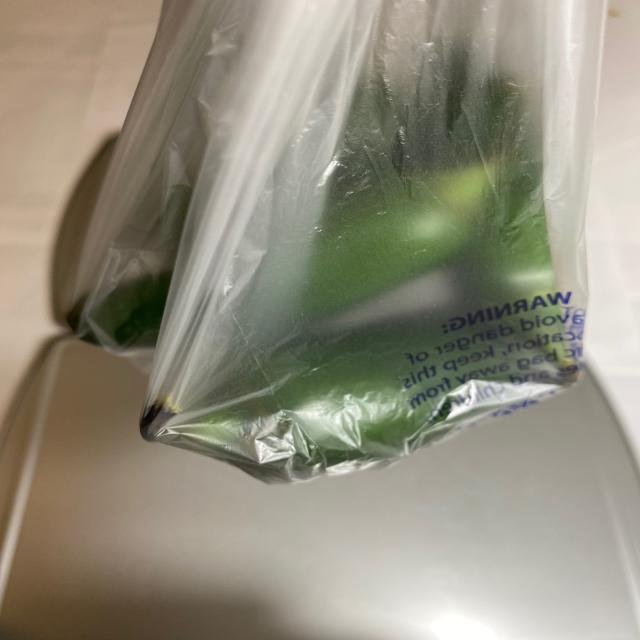chilli: (49, 60, 607, 488)
